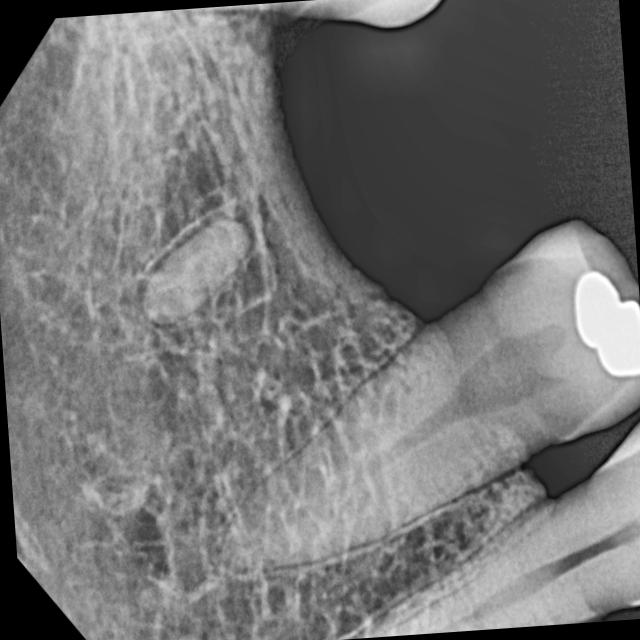Restoration: (564, 264, 640, 393)
